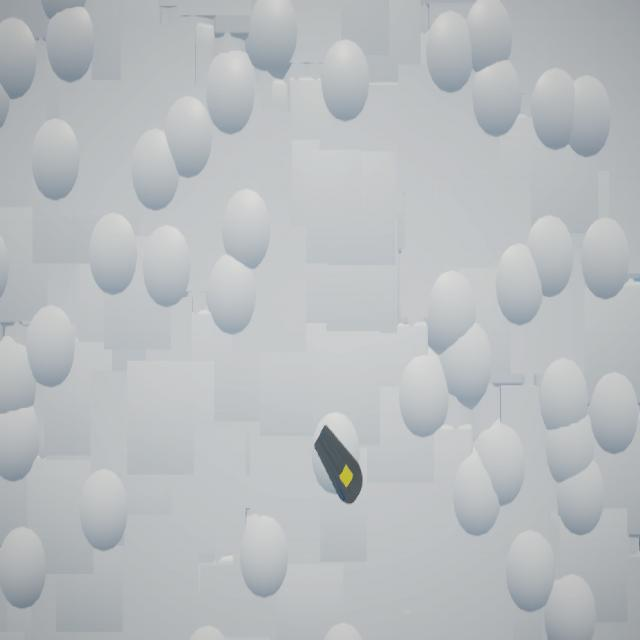handle_folk: (315, 424, 364, 506)
